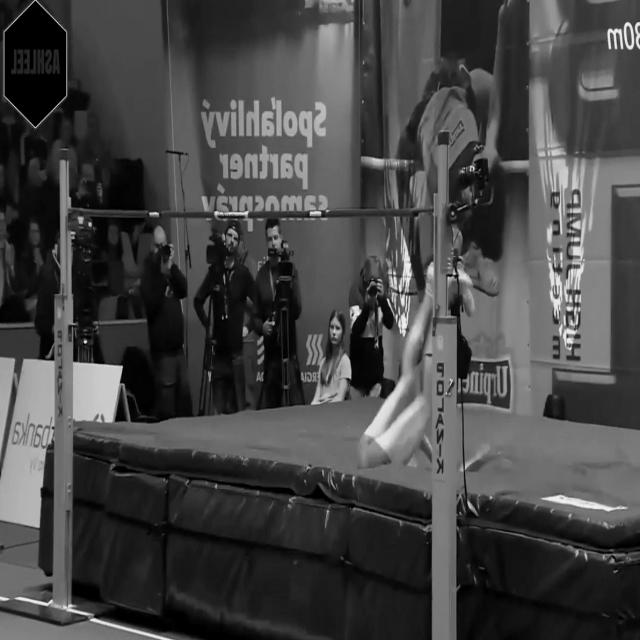land: (355, 261, 473, 469)
